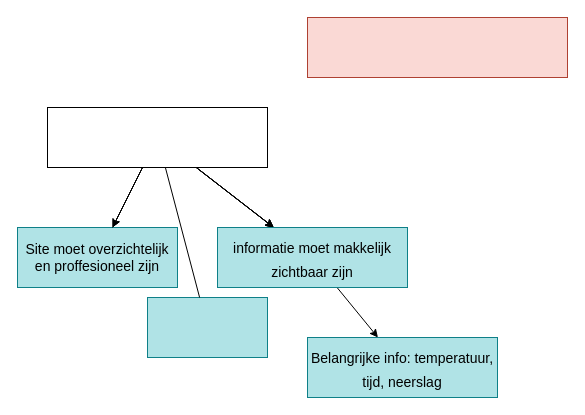
The diagram is 585 pixels wide and 415 high, and some of its shapes have lost their labels. Here are the shapes that lost their labels. From the top down, the centre of each, then its label:
the point at 437,47: Web-app: weer
the point at 207,327: Lay-out moet consistent zijn
